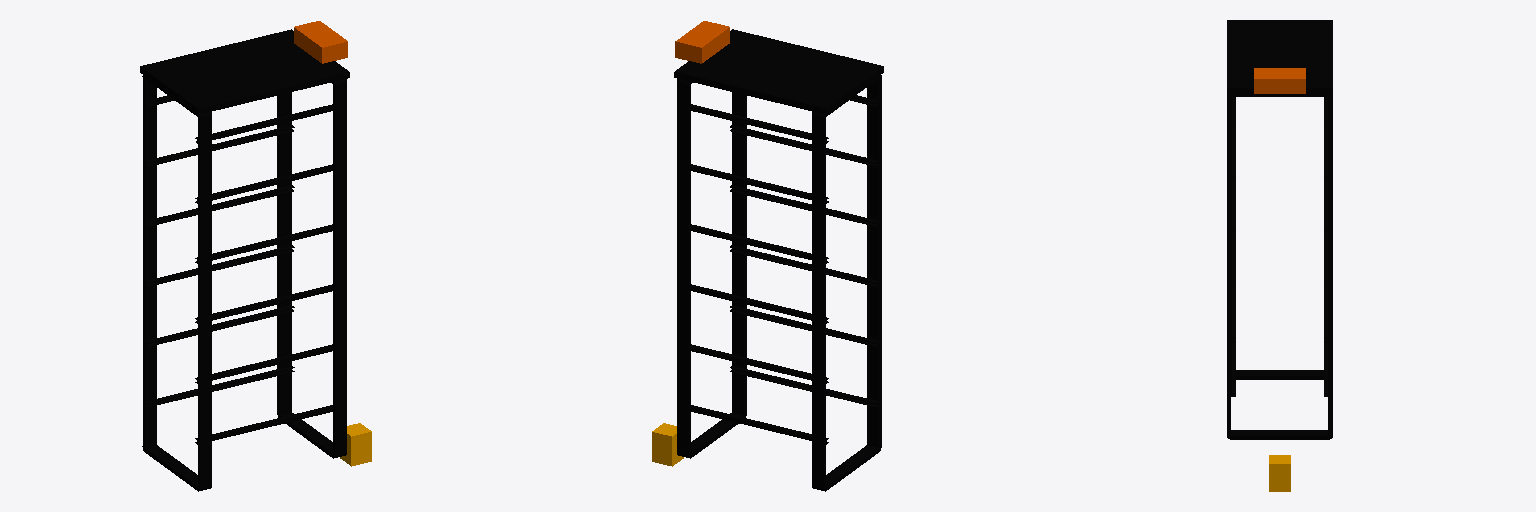
URDF robot description (pioneer3at):
<?xml version="1.0" encoding="utf-8"?>
<!-- =================================================================================== -->
<!-- |    This document was autogenerated by xacro from pioneer3at.urdf.xacro          | -->
<!-- |    EDITING THIS FILE BY HAND IS NOT RECOMMENDED                                 | -->
<!-- =================================================================================== -->
<robot name="pioneer3at" xmlns:controller="http://playerstage.sourceforge.net/gazebo/xmlschema/#controller" xmlns:interface="http://playerstage.sourceforge.net/gazebo/xmlschema/#interface" xmlns:sensor="http://playerstage.sourceforge.net/gazebo/xmlschema/#sensor">
  <material name="SonarYellow">
    <color rgba="0.715 0.583 0.210 1.0"/>
  </material>
  <material name="WheelBlack">
    <color rgba="0.117 0.117 0.117 1.0"/>
  </material>
  <material name="HubcapYellow">
    <color rgba="1.0 0.811 0.151 1.0"/>
  </material>
  <material name="ChassisRed">
    <color rgba="0.8 0.0 0.0 1.0"/>
  </material>
  <material name="TopBlack">
    <color rgba="0.038 0.038 0.038 1.0"/>
  </material>
  <material name="ChassisGrey">
    <color rgba="0.47 0.47 0.47 1.0"/>
  </material>
  <!-- Chassis -->
  <link name="base_link">
    <!--  For pointers on inertial and gazebo-related parameters see
		       * http://wiki.ros.org/urdf/Tutorials/Adding%20Physical%20and%20Collision%20Properties%20to%20a%20URDF%20Model
                       * http://answers.gazebosim.org/question/4372/the-inertia-matrix-explained/
		       * http://gazebosim.org/tutorials?tut=inertia&cat=build_robot, and 
                       * http://gazebosim.org/tutorials/?tut=ros_urdf
                       * http://en.wikipedia.org/wiki/List_of_moment_of_inertia_tensors  
                -->
    <inertial>
      <mass value="21.5"/>
      <!-- P3AT 18.6kg plus three batteries @ 2.4kg each  minus four wheels @ 1.4 kg ea and top plate @ 0.1 kg-->
      <origin xyz="-0.1 0 0.177"/>
      <inertia ixx="0.3338" ixy="0.0" ixz="0.0" iyy="0.4783" iyz="0.0" izz="0.3338"/>
    </inertial>
    <visual>
      <origin rpy="0 0 0" xyz="0 0 0.177"/>
      <geometry name="pioneer_geom">
        <mesh filename="package://yeetbot_navigation/meshes/chassis.stl"/>
      </geometry>
      <material name="ChassisRed">
        <color rgba="0.851 0.0 0.0 1.0"/>
      </material>
    </visual>
    <collision>
      <origin rpy="0 0 0" xyz="0 0 0.177"/>
      <geometry>
        <mesh filename="package://yeetbot_navigation/meshes/chassis.stl"/>
      </geometry>
    </collision>
  </link>
  <gazebo reference="base_link">
    <material value="Gazebo/Red"/>
  </gazebo>
  <!-- Top -->
  <link name="top_plate">
    <inertial>
      <mass value="0.1"/>
      <origin xyz="-0.025 0 -0.223"/>
      <inertia ixx="1.0" ixy="0.0" ixz="0.0" iyy="1.0" iyz="0.0" izz="1.0"/>
    </inertial>
    <visual>
      <origin rpy="0 0 0" xyz="0 0 0"/>
      <geometry name="pioneer_geom">
        <mesh filename="package://yeetbot_navigation/meshes/top.stl"/>
      </geometry>
      <material name="TopBlack">
        <color rgba="0.038 0.038 0.038 1.0"/>
      </material>
    </visual>
  </link>
  <gazebo reference="top_plate">
    <material>Gazebo/Black</material>
  </gazebo>
  <joint name="base_top_joint" type="fixed">
    <origin rpy="0 0 0" xyz="0.003 0 0.274"/>
    <parent link="base_link"/>
    <child link="top_plate"/>
  </joint>
  <!-- Drawer Frame -->
  <link name="drawer_frame">
    <inertial>
      <mass value="3.0"/>
      <origin xyz="-0.025 0 -0.223"/>
      <inertia ixx="1.0" ixy="0.0" ixz="0.0" iyy="1.0" iyz="0.0" izz="1.0"/>
    </inertial>
    <visual>
      <origin rpy="0 0 0" xyz="0 0 0"/>
      <geometry name="pioneer_geom">
        <mesh filename="package://yeetbot_navigation/meshes/drawer_frame_part.STL" scale="0.001 0.001 0.001"/>
      </geometry>
      <material name="TopBlack">
        <color rgba="0.038 0.038 0.038 1.0"/>
      </material>
    </visual>
    <collision>
      <origin rpy="0 0 0" xyz="-0.025 0 -0.223"/>
      <geometry>
        <mesh filename="package://yeetbot_navigation/meshes/drawer_frame_part.STL" scale="0.001 0.001 0.001"/>
      </geometry>
    </collision>
  </link>
  <gazebo reference="drawer_frame">
    <material>Gazebo/Black</material>
  </gazebo>
  <joint name="top_drawer_joint" type="fixed">
    <origin rpy="1.570795 0 4.712385" xyz="0.25 0.122 0.003"/>
    <parent link="top_plate"/>
    <child link="drawer_frame"/>
  </joint>
  <!-- Front + Back Sonar -->
  <link name="front_sonar">
    <inertial>
      <mass value="0.1"/>
      <origin xyz="0 0 0"/>
      <inertia ixx="1.0" ixy="0.0" ixz="0.0" iyy="1.0" iyz="0.0" izz="1.0"/>
    </inertial>
    <visual>
      <origin rpy="0 0 0" xyz="0 0 0"/>
      <geometry name="pioneer_geom">
        <mesh filename="package://yeetbot_navigation/meshes/front_sonar.stl"/>
      </geometry>
      <material name="SonarYellow">
        <color rgba="0.715 0.583 0.210 1.0"/>
      </material>
    </visual>
  </link>
  <gazebo reference="front_sonar">
    <material value="Gazebo/Yellow"/>
  </gazebo>
  <joint name="base_front_joint" type="fixed">
    <origin rpy="0 0 0" xyz="0.193 0 0.25"/>
    <parent link="base_link"/>
    <child link="front_sonar"/>
  </joint>
  <link name="back_sonar">
    <inertial>
      <mass value="0.1"/>
      <origin xyz="0 0 0"/>
      <inertia ixx="1.0" ixy="0.0" ixz="0.0" iyy="1.0" iyz="0.0" izz="1.0"/>
    </inertial>
    <visual>
      <origin rpy="0 0 0" xyz="0 0 0"/>
      <geometry name="pioneer_geom">
        <mesh filename="package://yeetbot_navigation/meshes/back_sonar.stl"/>
      </geometry>
      <material name="SonarYellow">
        <color rgba="0.715 0.583 0.210 1.0"/>
      </material>
    </visual>
  </link>
  <gazebo reference="back_sonar">
    <material value="Gazebo/Yellow"/>
  </gazebo>
  <joint name="base_back_joint" type="fixed">
    <origin rpy="0 0 0" xyz="-0.187 0 0.247"/>
    <parent link="base_link"/>
    <child link="back_sonar"/>
  </joint>
  <!-- Kinect Depth Sensor  -->
  <link name="kinect_link">
    <visual>
      <geometry>
        <box size="0.064 0.121 0.0381"/>
      </geometry>
      <material name="Blue"/>
    </visual>
    <inertial>
      <mass value="0.0001"/>
      <origin xyz="0 0 0"/>
      <inertia ixx="0.0001" ixy="0.0" ixz="0.0" iyy="0.0001" iyz="0.0" izz="0.0001"/>
    </inertial>
  </link>
  <joint name="base_kinect_joint" type="fixed">
    <origin rpy="0 0 0" xyz="0.2 0 1.193"/>
    <parent link="base_link"/>
    <child link="kinect_link"/>
  </joint>
  <link name="kinect_depth_frame">
    <inertial>
      <mass value="0.0001"/>
      <origin xyz="0 0 0"/>
      <inertia ixx="0.0001" ixy="0.0" ixz="0.0" iyy="0.0001" iyz="0.0" izz="0.0001"/>
    </inertial>
  </link>
  <joint name="kinect_depth_joint" type="fixed">
    <origin rpy="0 0 0" xyz="0 0.028 0"/>
    <parent link="kinect_link"/>
    <child link="kinect_depth_frame"/>
  </joint>
  <link name="kinect_depth_optical_frame">
    <inertial>
      <mass value="0.0001"/>
      <origin xyz="0 0 0"/>
      <inertia ixx="0.0001" ixy="0.0" ixz="0.0" iyy="0.0001" iyz="0.0" izz="0.0001"/>
    </inertial>
  </link>
  <joint name="depth_optical_joint" type="fixed">
    <origin rpy="1.570795 0 1.570795" xyz="0 0 0"/>
    <parent link="kinect_depth_frame"/>
    <child link="kinect_depth_optical_frame"/>
  </joint>
  <!-- Hokuyo LIDAR -->
  <link name="lidar_link">
    <visual>
      <geometry>
        <box size="0.05 0.05 0.07"/>
      </geometry>
      <material name="Green"/>
    </visual>
  </link>
  <joint name="base_lidar_joint" type="fixed">
    <origin rpy="0 0 0" xyz="0.285 0 0.235"/>
    <parent link="base_link"/>
    <child link="lidar_link"/>
  </joint>
  <link name="beam_link">
    <inertial>
      <mass value="0.0001"/>
      <origin xyz="0 0 0"/>
      <inertia ixx="0.0001" ixy="0.0" ixz="0.0" iyy="0.0001" iyz="0.0" izz="0.0001"/>
    </inertial>
  </link>
  <joint name="lidar_beam_joint" type="fixed">
    <origin rpy="3.14159 0 0" xyz="0 0 -0.0225"/>
    <parent link="lidar_link"/>
    <child link="beam_link"/>
  </joint>
  <!-- Front Axles + Wheels + Hubcaps -->
  <link name="p3at_front_left_axle">
    <inertial>
      <mass value="0.1"/>
      <origin xyz="0 0 0"/>
      <inertia ixx="1.0" ixy="0.0" ixz="0.0" iyy="1.0" iyz="0.0" izz="1.0"/>
    </inertial>
    <visual>
      <origin rpy="0 0 0" xyz="0 0 0"/>
      <geometry name="pioneer_geom">
        <mesh filename="package://yeetbot_navigation/meshes/axle.stl"/>
      </geometry>
      <material name="AxleGrey">
        <color rgba="0.5 0.5 0.5 1"/>
      </material>
    </visual>
  </link>
  <gazebo reference="p3at_front_left_axle">
    <material value="Gazebo/Grey"/>
  </gazebo>
  <joint name="base_front_left_axle_joint" type="fixed">
    <origin rpy="0 0 0" xyz="0.135 0.156 0.111"/>
    <parent link="base_link"/>
    <child link="p3at_front_left_axle"/>
  </joint>
  <link name="p3at_front_left_hub">
    <inertial>
      <mass value="0.1"/>
      <origin xyz="0 0 0"/>
      <inertia ixx="1.0" ixy="0.0" ixz="0.0" iyy="1.0" iyz="0.0" izz="1.0"/>
    </inertial>
    <visual>
      <origin rpy="0 0 0" xyz="0 0 0"/>
      <geometry name="pioneer_geom">
        <mesh filename="package://yeetbot_navigation/meshes/left_hubcap.stl"/>
      </geometry>
      <material name="HubcapYellow">
        <color rgba="1.0 0.811 0.151 1.0"/>
      </material>
    </visual>
  </link>
  <gazebo reference="p3at_front_left_hub">
    <material value="Gazebo/Yellow"/>
  </gazebo>
  <joint name="base_front_left_hub_joint" type="fixed">
    <origin rpy="0 0 0" xyz="0 0.041 0"/>
    <parent link="p3at_front_left_axle"/>
    <child link="p3at_front_left_hub"/>
  </joint>
  <link name="p3at_front_left_wheel">
    <inertial>
      <mass value="1.2"/>
      <!-- 1.4 kg - axle 0.1 kg - hub 0.1 kg -->
      <origin xyz="0 0 0"/>
      <inertia ixx="0.012411765597" ixy="0" ixz="0" iyy="0.015218160428" iyz="0" izz="0.011763977943"/>
    </inertial>
    <visual>
      <origin rpy="0 0 0" xyz="0 0 0"/>
      <geometry name="pioneer_geom">
        <mesh filename="package://yeetbot_navigation/meshes/wheel.stl"/>
      </geometry>
      <material name="WheelBlack">
        <color rgba="0.117 0.117 0.117 1"/>
      </material>
    </visual>
    <collision>
      <origin rpy="-1.57079635 0 0" xyz="0 0 0"/>
      <geometry>
        <!--mesh filename="package://yeetbot_navigation/meshes/wheel.stl"/-->
        <cylinder length="0.075" radius="0.111"/>
      </geometry>
    </collision>
  </link>
  <gazebo reference="p3at_front_left_wheel">
    <material value="Gazebo/Black"/>
  </gazebo>
  <joint name="p3at_front_left_wheel_joint" type="continuous">
    <axis xyz="0 1 0"/>
    <anchor xyz="0 0 0"/>
    <limit effort="100" velocity="100"/>
    <joint_properties damping="0.7"/>
    <origin rpy="0 0 0" xyz="0 0 0"/>
    <parent link="p3at_front_left_hub"/>
    <child link="p3at_front_left_wheel"/>
  </joint>
  <!-- Back Axles + Wheels + Hubcaps -->
  <link name="p3at_back_left_axle">
    <inertial>
      <mass value="0.1"/>
      <origin xyz="0 0 0"/>
      <inertia ixx="1.0" ixy="0.0" ixz="0.0" iyy="1.0" iyz="0.0" izz="1.0"/>
    </inertial>
    <visual>
      <origin rpy="0 0 0" xyz="0 0 0"/>
      <geometry name="pioneer_geom">
        <mesh filename="package://yeetbot_navigation/meshes/axle.stl"/>
      </geometry>
      <material name="AxleGrey">
        <color rgba="0.5 0.5 0.5 1"/>
      </material>
    </visual>
    <collision>
      <origin rpy="0 0 0" xyz="0 0 0"/>
      <geometry>
        <mesh filename="package://yeetbot_navigation/meshes/axle.stl"/>
      </geometry>
    </collision>
  </link>
  <gazebo reference="p3at_back_left_axle">
    <material value="Gazebo/Grey"/>
  </gazebo>
  <joint name="p3at_back_left_axle_joint" type="fixed">
    <origin rpy="0 0 0" xyz="-0.134 0.156 0.111"/>
    <parent link="base_link"/>
    <child link="p3at_back_left_axle"/>
  </joint>
  <link name="p3at_back_left_hub">
    <inertial>
      <mass value="0.1"/>
      <origin xyz="0 0 0"/>
      <inertia ixx="1.0" ixy="0.0" ixz="0.0" iyy="1.0" iyz="0.0" izz="1.0"/>
    </inertial>
    <visual>
      <origin rpy="0 0 0" xyz="0 0 0"/>
      <geometry name="pioneer_geom">
        <mesh filename="package://yeetbot_navigation/meshes/left_hubcap.stl"/>
      </geometry>
      <material name="HubcapYellow"/>
    </visual>
    <collision>
      <origin rpy="0 0 0" xyz="0 0 0"/>
      <geometry>
        <mesh filename="package://yeetbot_navigation/meshes/left_hubcap.stl"/>
      </geometry>
    </collision>
  </link>
  <gazebo reference="p3at_back_left_hub">
    <material value="Gazebo/Yellow"/>
  </gazebo>
  <joint name="p3at_back_left_hub_joint" type="fixed">
    <origin rpy="0 0 0" xyz="-0 0.041 0"/>
    <parent link="p3at_back_left_axle"/>
    <child link="p3at_back_left_hub"/>
  </joint>
  <link name="p3at_back_left_wheel">
    <inertial>
      <mass value="1.2"/>
      <origin xyz="0 0 0"/>
      <inertia ixx="0.012411765597" ixy="0" ixz="0" iyy="0.015218160428" iyz="0" izz="0.011763977943"/>
    </inertial>
    <visual>
      <origin rpy="0 0 0" xyz="0 0 0"/>
      <geometry name="pioneer_geom">
        <mesh filename="package://yeetbot_navigation/meshes/wheel.stl"/>
      </geometry>
      <material name="WheelBlack"/>
    </visual>
    <collision>
      <origin rpy="-1.57079635 0 0" xyz="0 0 0"/>
      <geometry>
        <!--mesh filename="package://yeetbot_navigation/meshes/wheel.stl"/-->
        <cylinder length="0.075" radius="0.111"/>
      </geometry>
    </collision>
  </link>
  <gazebo reference="p3at_back_left_wheel">
    <material value="Gazebo/Black"/>
  </gazebo>
  <joint name="p3at_back_left_wheel_joint" type="continuous">
    <axis xyz="0 1 0"/>
    <anchor xyz="0 0 0"/>
    <limit effort="100" velocity="100"/>
    <joint_properties damping="0.7"/>
    <origin rpy="0 0 0" xyz="0 0 0"/>
    <parent link="p3at_back_left_hub"/>
    <child link="p3at_back_left_wheel"/>
  </joint>
  <!-- see http://gazebosim.org/tutorials/?tut=ros_urdf -->
  <gazebo reference="p3at_back_left_wheel">
    <kp>1000000.0</kp>
    <!-- kp and kd for rubber -->
    <kd>100.0</kd>
    <mu1>1.0</mu1>
    <!-- was 10 -->
    <mu2>1.0</mu2>
    <!-- how to get these into <surface><friction><ode>... ?
        slip1 0.5 /slip1 
         slip2 0 /slip2 
      -->
    <!-- fdir1 0 1 0 /fdir1 -->
    <!-- see http://github.com/MobileRobots/amr-ros-config/issues/6 -->
    <maxVel>1.0</maxVel>
    <minDepth>0.00</minDepth>
    <material value="Gazebo/Black"/>
  </gazebo>
  <gazebo reference="p3at_front_left_wheel">
    <kp>1000000.0</kp>
    <!-- kp and kd for rubber -->
    <kd>100.0</kd>
    <mu1>1.0</mu1>
    <!-- was 10 -->
    <mu2>1.0</mu2>
    <!-- how to get these into <surface><friction><ode>... ?
        slip1 0.5 /slip1 
         slip2 0 /slip2 
      -->
    <!-- fdir1 0 1 0 /fdir1 -->
    <!-- see http://github.com/MobileRobots/amr-ros-config/issues/6 -->
    <maxVel>1.0</maxVel>
    <minDepth>0.00</minDepth>
    <material value="Gazebo/Black"/>
  </gazebo>
  <!-- Front Axles + Wheels + Hubcaps -->
  <link name="p3at_front_right_axle">
    <inertial>
      <mass value="0.1"/>
      <origin xyz="0 0 0"/>
      <inertia ixx="1.0" ixy="0.0" ixz="0.0" iyy="1.0" iyz="0.0" izz="1.0"/>
    </inertial>
    <visual>
      <origin rpy="0 0 0" xyz="0 0 0"/>
      <geometry name="pioneer_geom">
        <mesh filename="package://yeetbot_navigation/meshes/axle.stl"/>
      </geometry>
      <material name="AxleGrey">
        <color rgba="0.5 0.5 0.5 1"/>
      </material>
    </visual>
  </link>
  <gazebo reference="p3at_front_right_axle">
    <material value="Gazebo/Grey"/>
  </gazebo>
  <joint name="base_front_right_axle_joint" type="fixed">
    <origin rpy="0 0 0" xyz="0.135 -0.156 0.111"/>
    <parent link="base_link"/>
    <child link="p3at_front_right_axle"/>
  </joint>
  <link name="p3at_front_right_hub">
    <inertial>
      <mass value="0.1"/>
      <origin xyz="0 0 0"/>
      <inertia ixx="1.0" ixy="0.0" ixz="0.0" iyy="1.0" iyz="0.0" izz="1.0"/>
    </inertial>
    <visual>
      <origin rpy="0 0 0" xyz="0 0 0"/>
      <geometry name="pioneer_geom">
        <mesh filename="package://yeetbot_navigation/meshes/right_hubcap.stl"/>
      </geometry>
      <material name="HubcapYellow">
        <color rgba="1.0 0.811 0.151 1.0"/>
      </material>
    </visual>
  </link>
  <gazebo reference="p3at_front_right_hub">
    <material value="Gazebo/Yellow"/>
  </gazebo>
  <joint name="base_front_right_hub_joint" type="fixed">
    <origin rpy="0 0 0" xyz="0 -0.041 0"/>
    <parent link="p3at_front_right_axle"/>
    <child link="p3at_front_right_hub"/>
  </joint>
  <link name="p3at_front_right_wheel">
    <inertial>
      <mass value="1.2"/>
      <!-- 1.4 kg - axle 0.1 kg - hub 0.1 kg -->
      <origin xyz="0 0 0"/>
      <inertia ixx="0.012411765597" ixy="0" ixz="0" iyy="0.015218160428" iyz="0" izz="0.011763977943"/>
    </inertial>
    <visual>
      <origin rpy="0 0 0" xyz="0 0 0"/>
      <geometry name="pioneer_geom">
        <mesh filename="package://yeetbot_navigation/meshes/wheel.stl"/>
      </geometry>
      <material name="WheelBlack">
        <color rgba="0.117 0.117 0.117 1"/>
      </material>
    </visual>
    <collision>
      <origin rpy="-1.57079635 0 0" xyz="0 0 0"/>
      <geometry>
        <!--mesh filename="package://yeetbot_navigation/meshes/wheel.stl"/-->
        <cylinder length="0.075" radius="0.111"/>
      </geometry>
    </collision>
  </link>
  <gazebo reference="p3at_front_right_wheel">
    <material value="Gazebo/Black"/>
  </gazebo>
  <joint name="p3at_front_right_wheel_joint" type="continuous">
    <axis xyz="0 1 0"/>
    <anchor xyz="0 0 0"/>
    <limit effort="100" velocity="100"/>
    <joint_properties damping="0.7"/>
    <origin rpy="0 0 0" xyz="0 0 0"/>
    <parent link="p3at_front_right_hub"/>
    <child link="p3at_front_right_wheel"/>
  </joint>
  <!-- Back Axles + Wheels + Hubcaps -->
  <link name="p3at_back_right_axle">
    <inertial>
      <mass value="0.1"/>
      <origin xyz="0 0 0"/>
      <inertia ixx="1.0" ixy="0.0" ixz="0.0" iyy="1.0" iyz="0.0" izz="1.0"/>
    </inertial>
    <visual>
      <origin rpy="0 0 0" xyz="0 0 0"/>
      <geometry name="pioneer_geom">
        <mesh filename="package://yeetbot_navigation/meshes/axle.stl"/>
      </geometry>
      <material name="AxleGrey">
        <color rgba="0.5 0.5 0.5 1"/>
      </material>
    </visual>
    <collision>
      <origin rpy="0 0 0" xyz="0 0 0"/>
      <geometry>
        <mesh filename="package://yeetbot_navigation/meshes/axle.stl"/>
      </geometry>
    </collision>
  </link>
  <gazebo reference="p3at_back_right_axle">
    <material value="Gazebo/Grey"/>
  </gazebo>
  <joint name="p3at_back_right_axle_joint" type="fixed">
    <origin rpy="0 0 0" xyz="-0.134 -0.156 0.111"/>
    <parent link="base_link"/>
    <child link="p3at_back_right_axle"/>
  </joint>
  <link name="p3at_back_right_hub">
    <inertial>
      <mass value="0.1"/>
      <origin xyz="0 0 0"/>
      <inertia ixx="1.0" ixy="0.0" ixz="0.0" iyy="1.0" iyz="0.0" izz="1.0"/>
    </inertial>
    <visual>
      <origin rpy="0 0 0" xyz="0 0 0"/>
      <geometry name="pioneer_geom">
        <mesh filename="package://yeetbot_navigation/meshes/right_hubcap.stl"/>
      </geometry>
      <material name="HubcapYellow"/>
    </visual>
    <collision>
      <origin rpy="0 0 0" xyz="0 0 0"/>
      <geometry>
        <mesh filename="package://yeetbot_navigation/meshes/right_hubcap.stl"/>
      </geometry>
    </collision>
  </link>
  <gazebo reference="p3at_back_right_hub">
    <material value="Gazebo/Yellow"/>
  </gazebo>
  <joint name="p3at_back_right_hub_joint" type="fixed">
    <origin rpy="0 0 0" xyz="-0 -0.041 0"/>
    <parent link="p3at_back_right_axle"/>
    <child link="p3at_back_right_hub"/>
  </joint>
  <link name="p3at_back_right_wheel">
    <inertial>
      <mass value="1.2"/>
      <origin xyz="0 0 0"/>
      <inertia ixx="0.012411765597" ixy="0" ixz="0" iyy="0.015218160428" iyz="0" izz="0.011763977943"/>
    </inertial>
    <visual>
      <origin rpy="0 0 0" xyz="0 0 0"/>
      <geometry name="pioneer_geom">
        <mesh filename="package://yeetbot_navigation/meshes/wheel.stl"/>
      </geometry>
      <material name="WheelBlack"/>
    </visual>
    <collision>
      <origin rpy="-1.57079635 0 0" xyz="0 0 0"/>
      <geometry>
        <!--mesh filename="package://yeetbot_navigation/meshes/wheel.stl"/-->
        <cylinder length="0.075" radius="0.111"/>
      </geometry>
    </collision>
  </link>
  <gazebo reference="p3at_back_right_wheel">
    <material value="Gazebo/Black"/>
  </gazebo>
  <joint name="p3at_back_right_wheel_joint" type="continuous">
    <axis xyz="0 1 0"/>
    <anchor xyz="0 0 0"/>
    <limit effort="100" velocity="100"/>
    <joint_properties damping="0.7"/>
    <origin rpy="0 0 0" xyz="0 0 0"/>
    <parent link="p3at_back_right_hub"/>
    <child link="p3at_back_right_wheel"/>
  </joint>
  <!-- see http://gazebosim.org/tutorials/?tut=ros_urdf -->
  <gazebo reference="p3at_back_right_wheel">
    <kp>1000000.0</kp>
    <!-- kp and kd for rubber -->
    <kd>100.0</kd>
    <mu1>1.0</mu1>
    <!-- was 10 -->
    <mu2>1.0</mu2>
    <!-- how to get these into <surface><friction><ode>... ?
        slip1 0.5 /slip1 
         slip2 0 /slip2 
      -->
    <!-- fdir1 0 1 0 /fdir1 -->
    <!-- see http://github.com/MobileRobots/amr-ros-config/issues/6 -->
    <maxVel>1.0</maxVel>
    <minDepth>0.00</minDepth>
    <material value="Gazebo/Black"/>
  </gazebo>
  <gazebo reference="p3at_front_right_wheel">
    <kp>1000000.0</kp>
    <!-- kp and kd for rubber -->
    <kd>100.0</kd>
    <mu1>1.0</mu1>
    <!-- was 10 -->
    <mu2>1.0</mu2>
    <!-- how to get these into <surface><friction><ode>... ?
        slip1 0.5 /slip1 
         slip2 0 /slip2 
      -->
    <!-- fdir1 0 1 0 /fdir1 -->
    <!-- see http://github.com/MobileRobots/amr-ros-config/issues/6 -->
    <maxVel>1.0</maxVel>
    <minDepth>0.00</minDepth>
    <material value="Gazebo/Black"/>
  </gazebo>
  <gazebo>
    <plugin filename="libgazebo_ros_skid_steer_drive.so" name="skid_steer_drive_controller">
      <updateRate>100.0</updateRate>
      <robotNamespace>sim_p3at</robotNamespace>
      <leftFrontJoint>p3at_front_left_wheel_joint</leftFrontJoint>
      <rightFrontJoint>p3at_front_right_wheel_joint</rightFrontJoint>
      <leftRearJoint>p3at_back_left_wheel_joint</leftRearJoint>
      <rightRearJoint>p3at_back_right_wheel_joint</rightRearJoint>
      <wheelSeparation>0.4</wheelSeparation>
      <wheelDiameter>0.215</wheelDiameter>
      <robotBaseFrame>base_link</robotBaseFrame>
      <MaxForce>5.0</MaxForce>
      <torque>200</torque>
      <commandTopic>cmd_vel</commandTopic>
      <odometryTopic>odom</odometryTopic>
      <odometryFrame>odom</odometryFrame>
      <broadcastTF>1</broadcastTF>
    </plugin>
  </gazebo>
</robot>

--- Facts derived from the render (not from the file) ---
Views: 3 orthographic renders of the robot side by side, from view 1: azimuth 30°, elevation 25°; view 2: azimuth 150°, elevation 25°; view 3: azimuth 270°, elevation 25°.
Robot: pioneer3at — 22 links, 21 joints (4 continuous, 17 fixed); root link base_link; default pose: all joints at 0.
Visible links, largest first — view 1: drawer_frame, kinect_link, lidar_link; view 2: drawer_frame, kinect_link, lidar_link; view 3: drawer_frame, kinect_link, lidar_link.
Boxes of the visible links, x1=… form: drawer_frame: x1=140, y1=29, x2=349, y2=491; kinect_link: x1=294, y1=21, x2=347, y2=63; lidar_link: x1=340, y1=423, x2=371, y2=466; drawer_frame: x1=674, y1=29, x2=883, y2=491; kinect_link: x1=675, y1=21, x2=729, y2=63; lidar_link: x1=652, y1=423, x2=683, y2=466; drawer_frame: x1=1227, y1=20, x2=1332, y2=439; kinect_link: x1=1254, y1=68, x2=1305, y2=93; lidar_link: x1=1269, y1=455, x2=1290, y2=491.
Size in the robot's own frame: 0.4809 by 0.245 by 1.01 metres.
Meshes: 9 distinct files referenced, 1 mesh visuals loaded (1 binary STL); not drawn: 16 (reference not matched to a file when rendering).